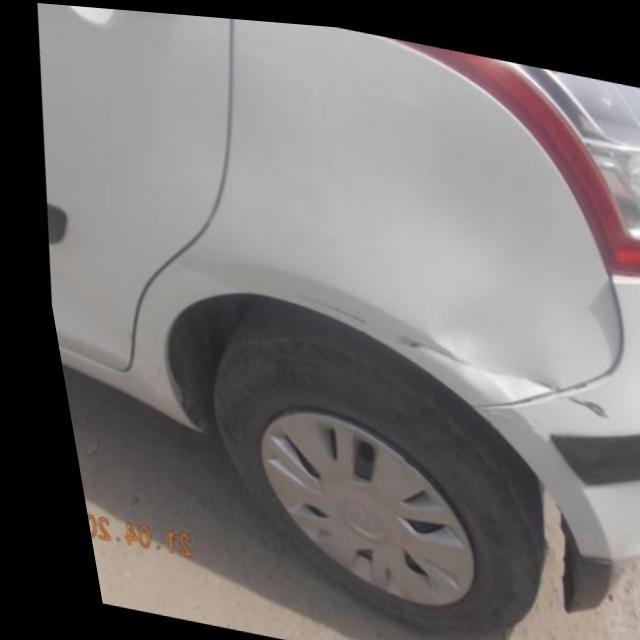scratch: (390, 328, 598, 410), (243, 275, 352, 321)
